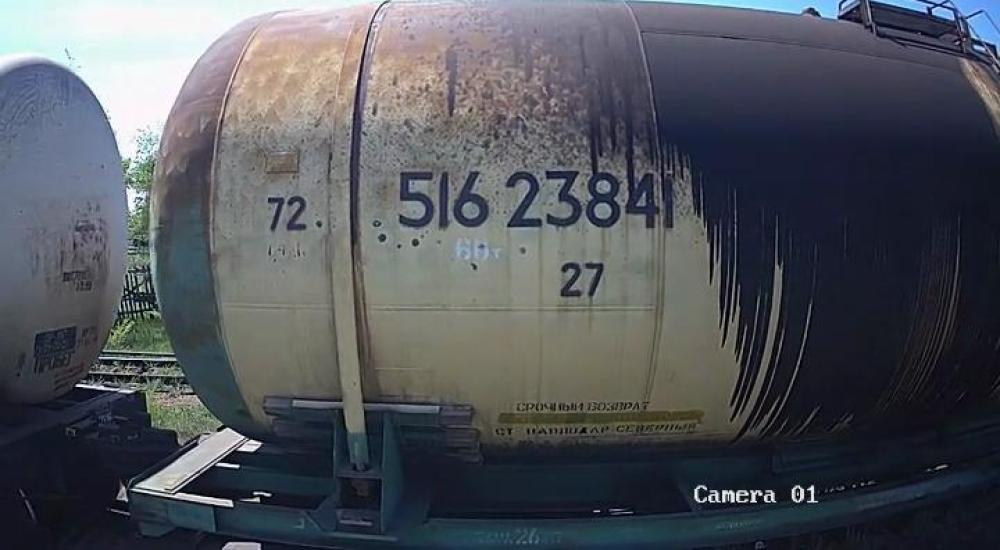Wagon-number: (393, 163, 679, 235)
